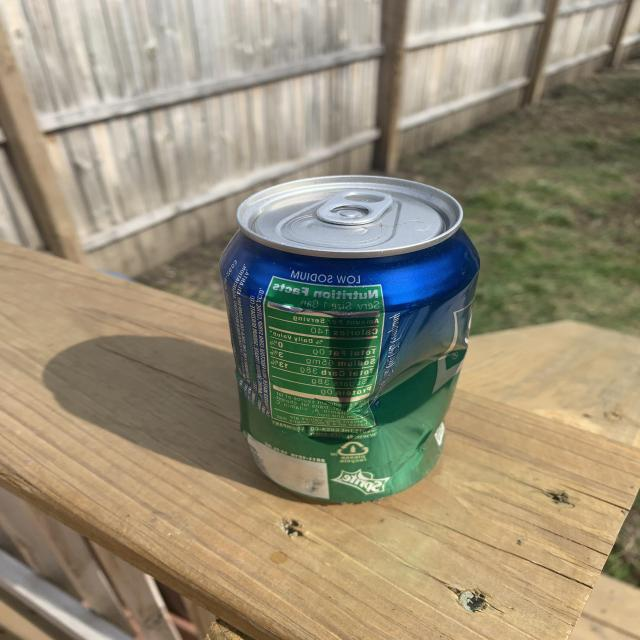can: (206, 124, 506, 518)
